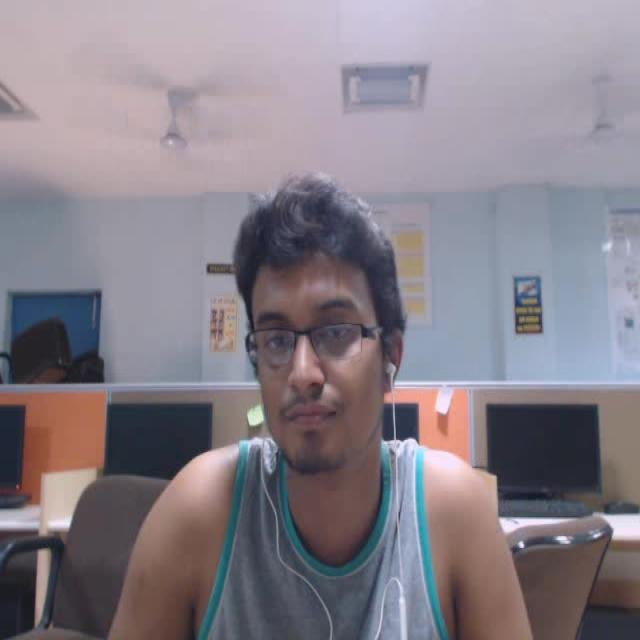Bored: (202, 146, 466, 528)
